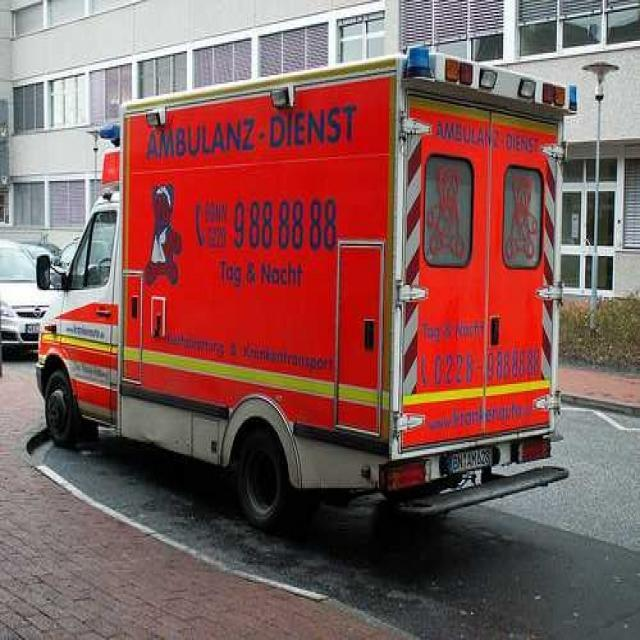emergency-vehicle: (41, 49, 572, 493)
